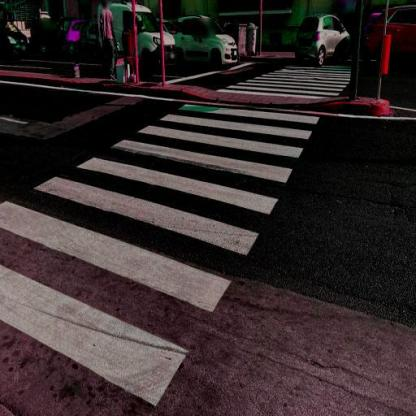crosswalk: (31, 156, 280, 258), (147, 102, 326, 144)
